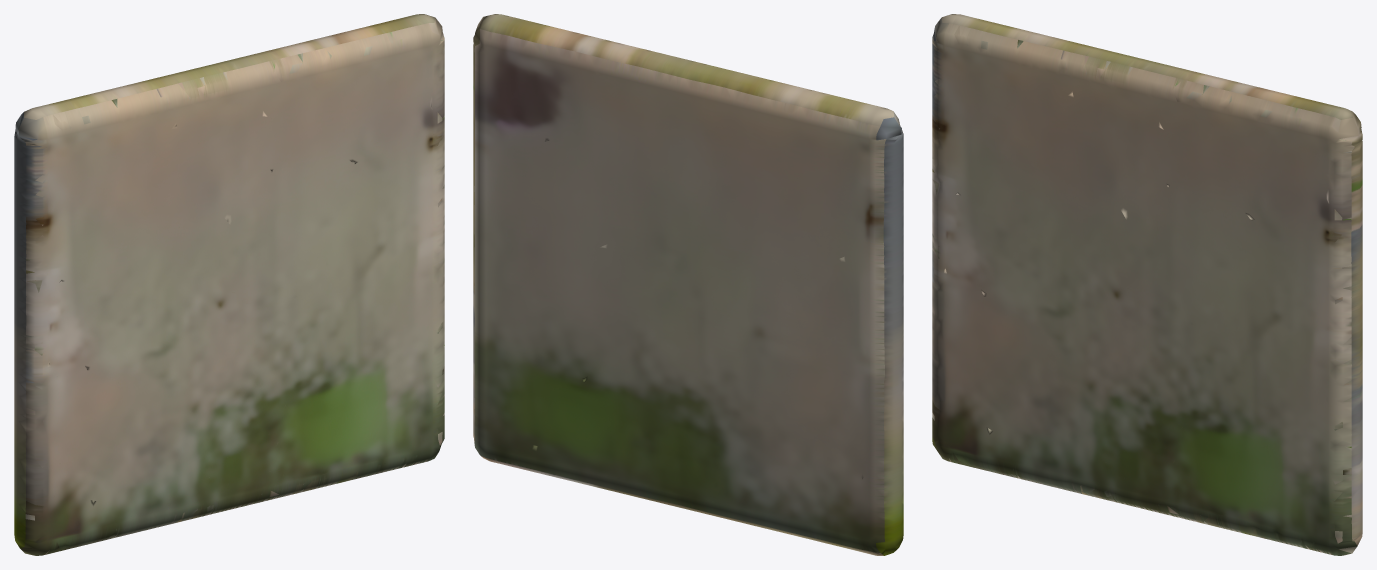
File: old-tv.glb
The picture shows the model from 3 angles, left to right: view 1: azimuth 30°, elevation 25°; view 2: azimuth 150°, elevation 25°; view 3: azimuth 330°, elevation 25°; orthographic projection.
Parts seen in each view (by area): view 1: textured; view 2: textured; view 3: textured.
Part boxes in pixels (x1,y1,x2,y2): textured: (14, 14, 444, 555); textured: (473, 14, 903, 555); textured: (932, 14, 1362, 555).
Bounding box in the file's own units: 2.17 × 2.18 × 0.1926.
Materials: 1 (1 with a texture image).
